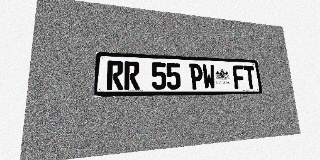5: (152, 62, 167, 90), (166, 63, 181, 90)
F: (232, 65, 246, 89)
P: (189, 64, 203, 89)
R: (107, 60, 124, 90), (124, 61, 140, 90)
T: (243, 66, 256, 89)
W: (202, 64, 216, 89)
